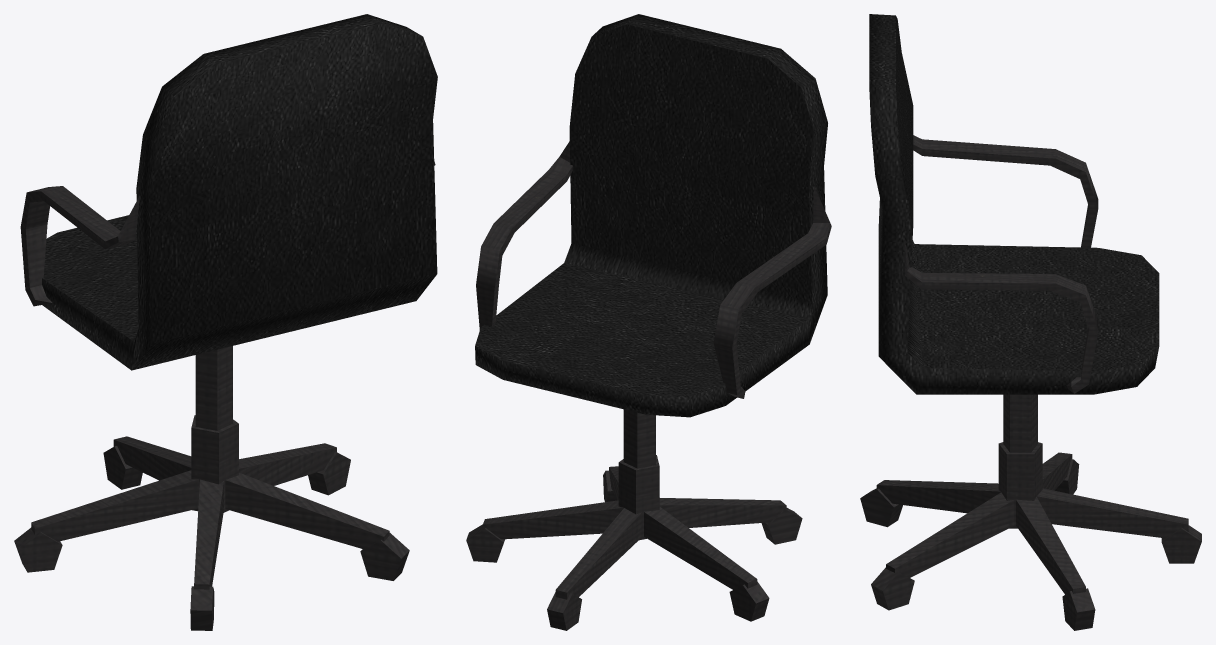
Rendered from FUR0210010.fbx.
The picture shows the model from 3 angles, left to right: view 1: azimuth 30°, elevation 25°; view 2: azimuth 150°, elevation 25°; view 3: azimuth 270°, elevation 25°; orthographic projection. The views are drawn at different scales.
Visible parts, largest first — view 1: smFUR0210010; view 2: smFUR0210010; view 3: smFUR0210010.
Boxes of the visible parts, <box> form: smFUR0210010: <box>14,14,437,630</box>; smFUR0210010: <box>466,14,831,630</box>; smFUR0210010: <box>860,14,1201,630</box>.
Size of the model in its own units: 76.63 by 121 by 73.55.
Materials: 1 (1 with a texture image).
